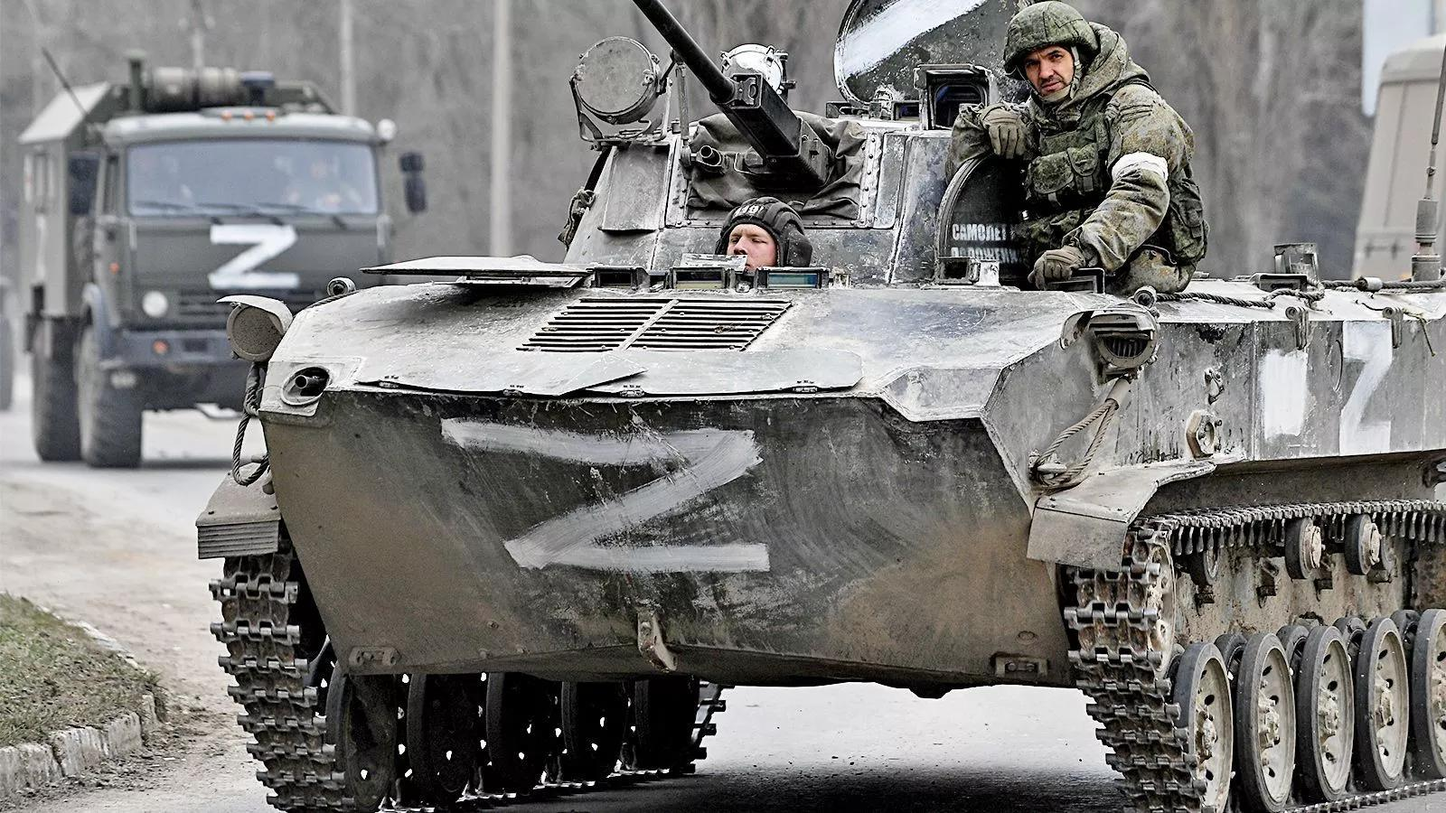person: (919, 15, 1228, 285)
tank: (189, 30, 1446, 808)
truck: (22, 78, 392, 466)
